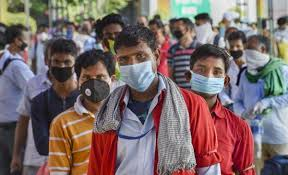mask: (114, 40, 157, 92), (189, 54, 225, 98), (76, 59, 112, 101), (49, 49, 76, 84), (245, 38, 267, 66), (14, 26, 31, 50), (171, 20, 190, 41), (228, 38, 246, 57)
